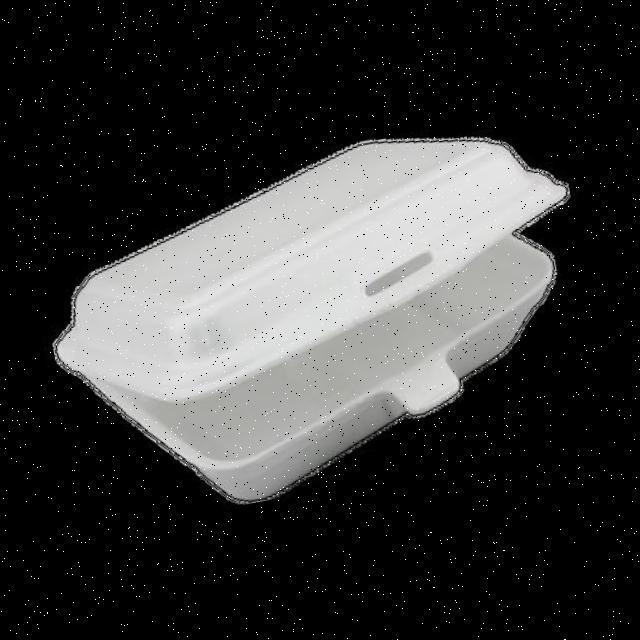styrofoam: (23, 102, 614, 534)
